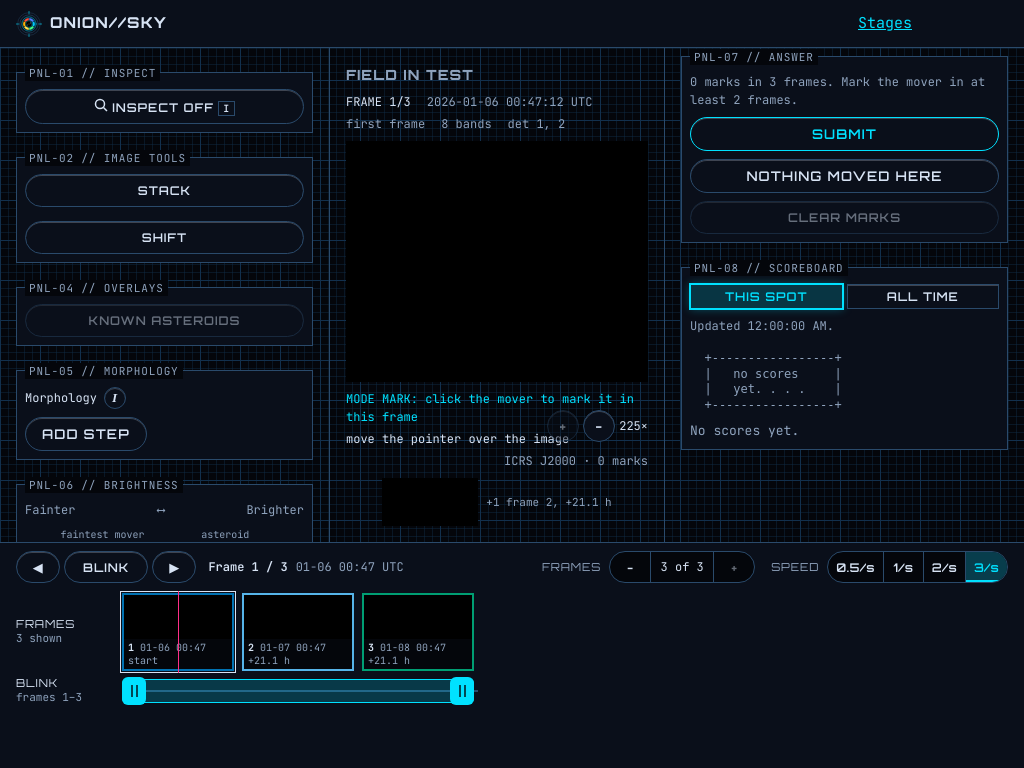
Test: PlayScreen wiring › Shift is opt-in beside Stack: turns Stack on, shows the motion pad, and goes away with Stack
Step 1. Click the button "Shift" → (164, 238), box [25,221,304,254]
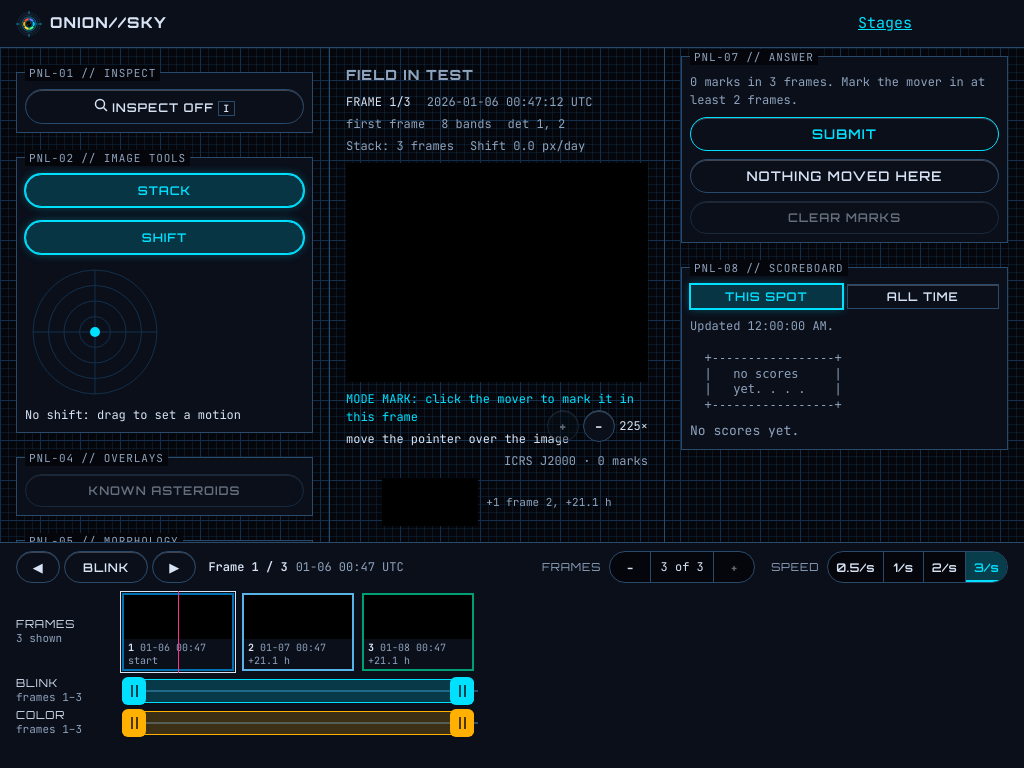
Check: the slider named "Shift motion" is shown
Step 2. Press ArrowRight in the slider named "Shift motion", box [25,262,165,402]
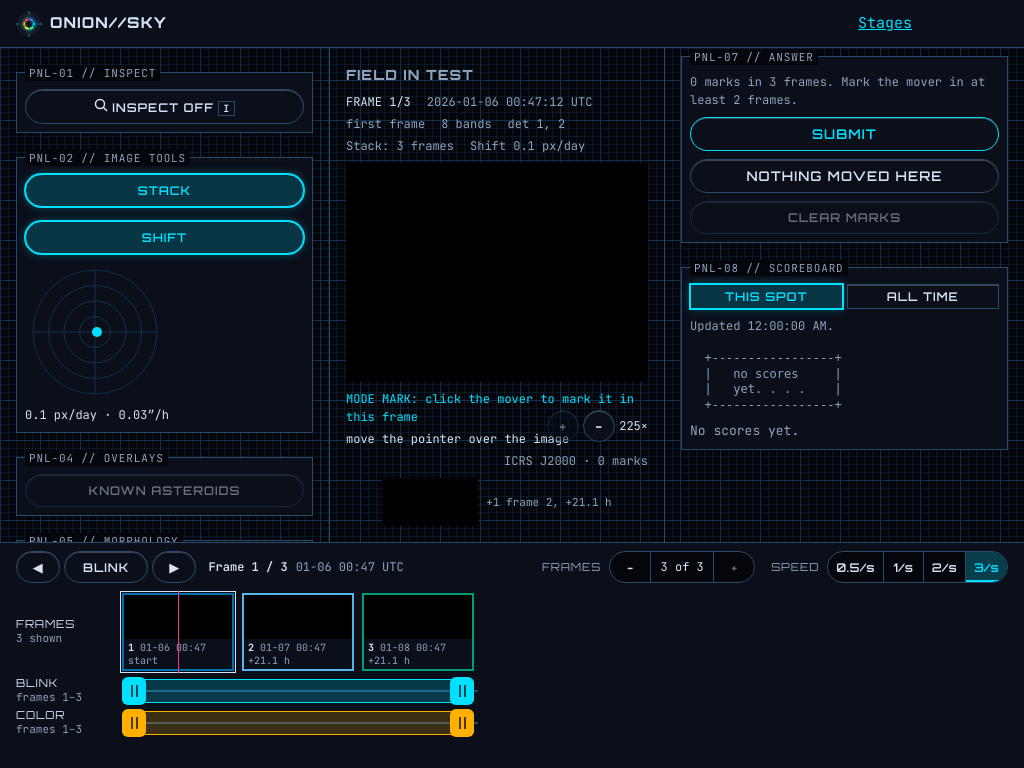
Check: the text "Shift 0.1 px/day" is shown, box [470,137,585,155]
Step 3. Click the button "Stack" → (164, 190), box [25,174,304,207]
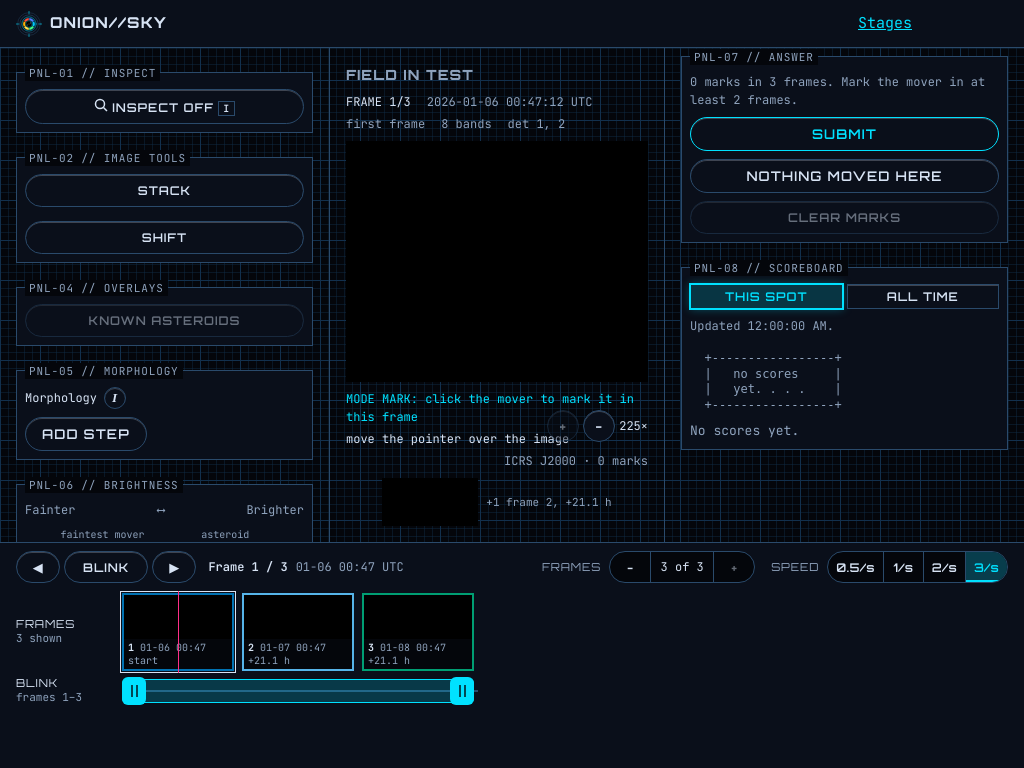
Check: the element with test id "motion-pad" is gone
